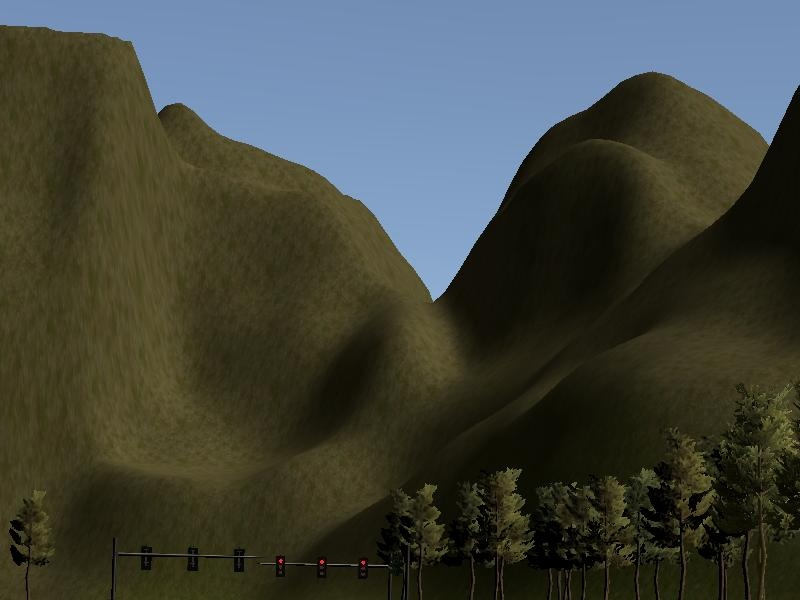red: (315, 554, 329, 580), (357, 556, 369, 581), (275, 555, 285, 578)
